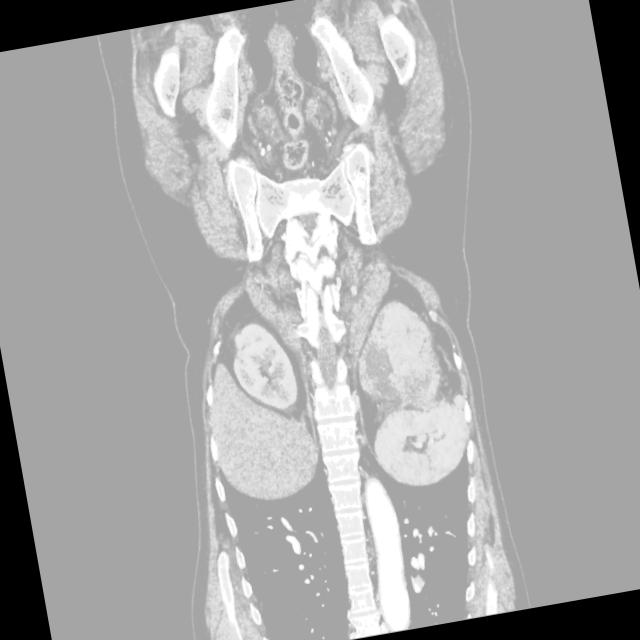TUMOR: (141, 260, 518, 538)
